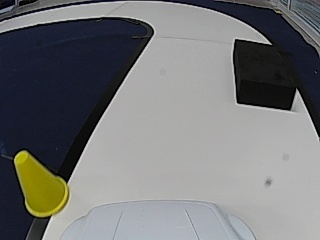block: (234, 39, 295, 109)
cone: (12, 150, 69, 218)
